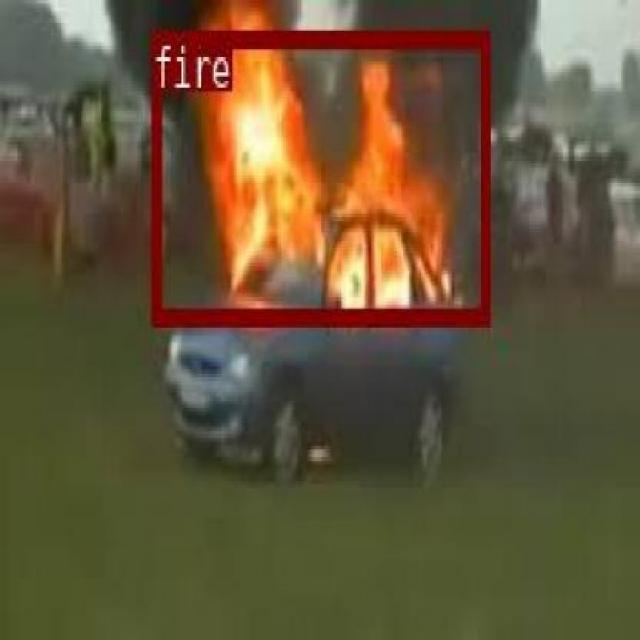Fire: (150, 26, 488, 322)
